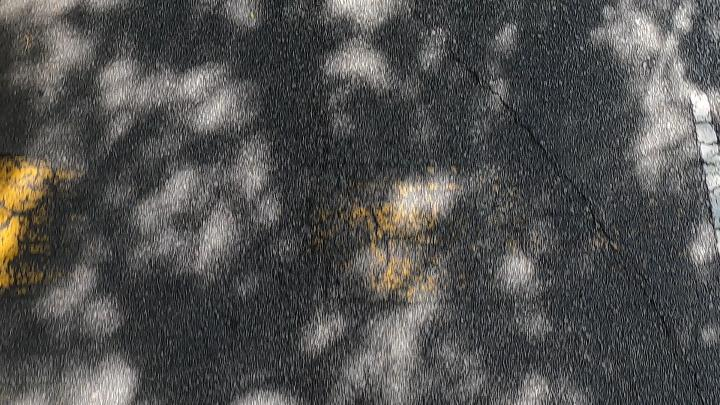Crack: (413, 2, 720, 405), (416, 8, 719, 404)
Lane: (689, 78, 720, 242), (691, 90, 719, 250)
